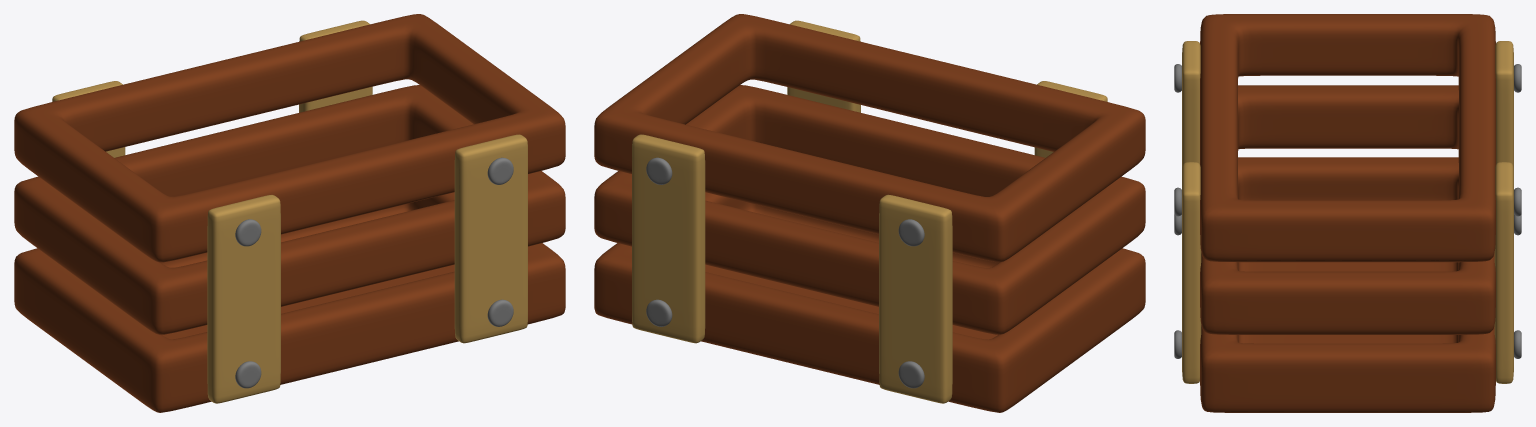
The model's file is Crate_Wooden_Empty.obj.
The picture shows the model from 3 angles, left to right: view 1: azimuth 30°, elevation 25°; view 2: azimuth 150°, elevation 25°; view 3: azimuth 270°, elevation 25°; orthographic projection.
Parts seen in each view (by area): view 1: Crate_Wooden_Empty_Body, Crate_Wooden_Empty_Planks, Crate_Wooden_Empty_Nails; view 2: Crate_Wooden_Empty_Body, Crate_Wooden_Empty_Planks, Crate_Wooden_Empty_Nails; view 3: Crate_Wooden_Empty_Body, Crate_Wooden_Empty_Planks, Crate_Wooden_Empty_Nails.
Part boxes in pixels (x1,y1,x2,y2): Crate_Wooden_Empty_Body: (14, 14, 565, 412); Crate_Wooden_Empty_Planks: (52, 20, 527, 403); Crate_Wooden_Empty_Nails: (235, 157, 513, 388); Crate_Wooden_Empty_Body: (594, 14, 1145, 412); Crate_Wooden_Empty_Planks: (632, 20, 1107, 403); Crate_Wooden_Empty_Nails: (646, 157, 924, 388); Crate_Wooden_Empty_Body: (1200, 14, 1495, 412); Crate_Wooden_Empty_Planks: (1182, 41, 1513, 383); Crate_Wooden_Empty_Nails: (1174, 64, 1521, 358).
Size of the model in its own units: 1.22 by 0.5754 by 0.8873.
